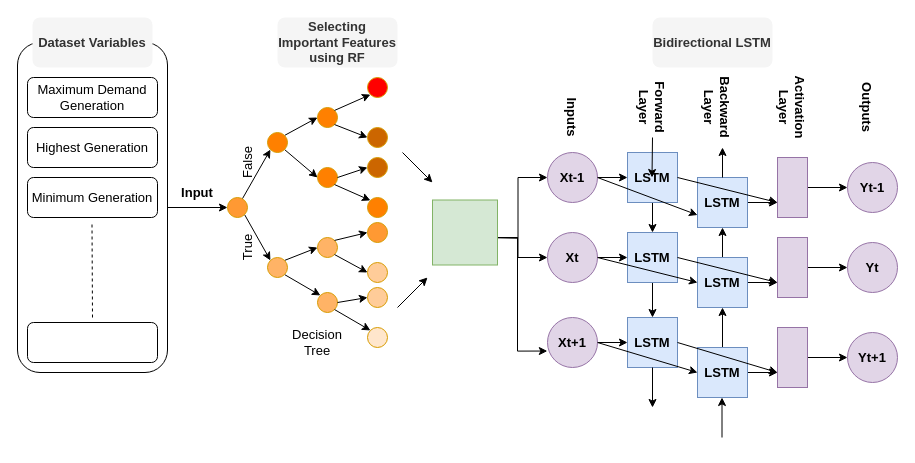
Some shapes in this 915 by 463 pixel diagram are drawn without their labels. Each missing label, with the centre of its shape:
"Dominant Features" goes at [465,232].
"Total Gas" goes at [92,342].
